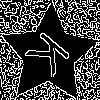K: (24, 29, 79, 85)
